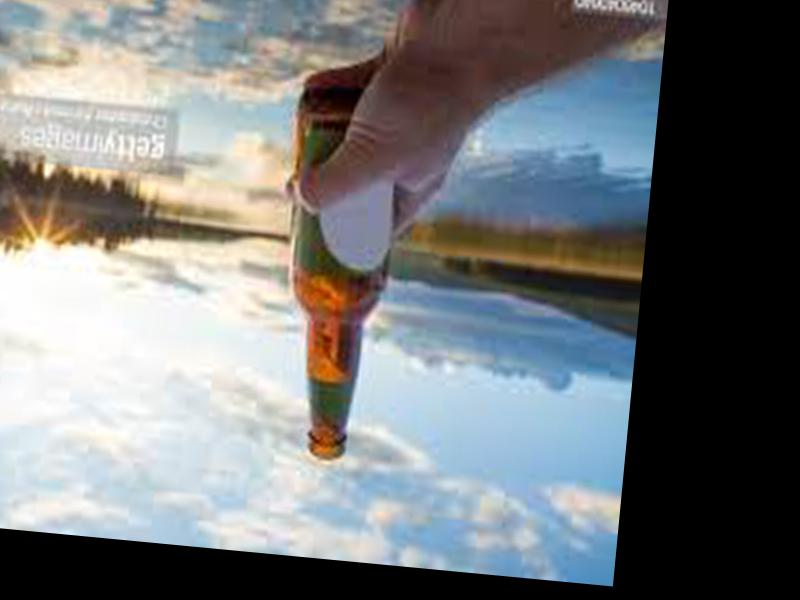Beer: (262, 88, 407, 464)
